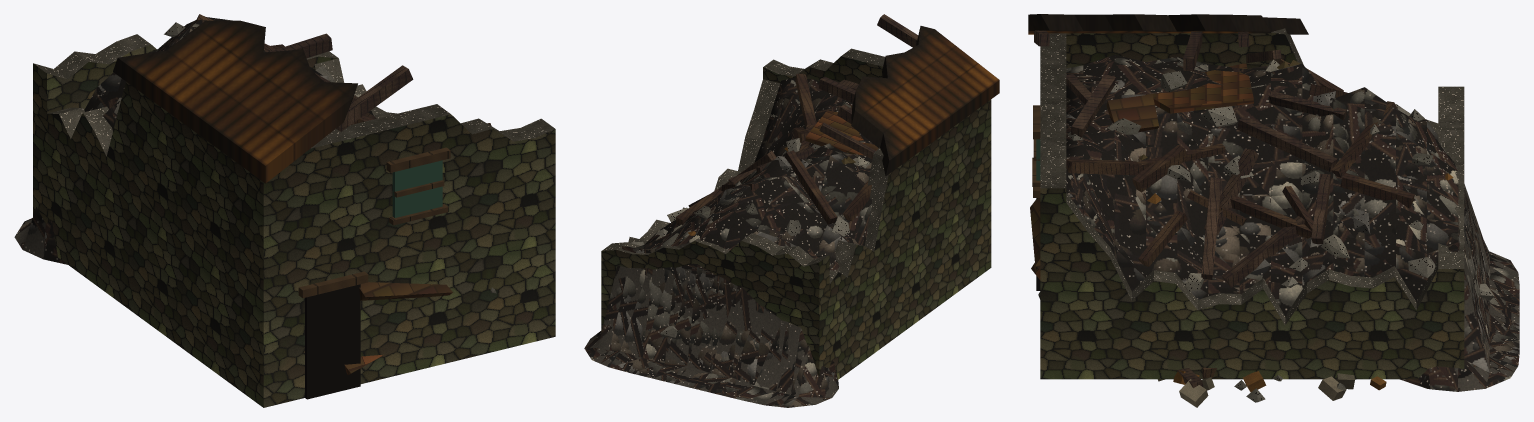
File: CreHouse05a.glb
3 renders of one model, left to right at view 1: azimuth 30°, elevation 25°; view 2: azimuth 150°, elevation 25°; view 3: azimuth 270°, elevation 25°, orthographic. The views are drawn at different scales.
Visible parts, largest first — view 1: CreHouse05a_rm; view 2: CreHouse05a_rm; view 3: CreHouse05a_rm.
Part boxes in pixels (x1,y1,x2,y2): CreHouse05a_rm: [14, 14, 555, 407]; CreHouse05a_rm: [584, 14, 999, 407]; CreHouse05a_rm: [1028, 14, 1519, 407].
Bounding box in the file's own units: 4.69 × 3.96 × 6.06.
22 materials, 20 textured.
